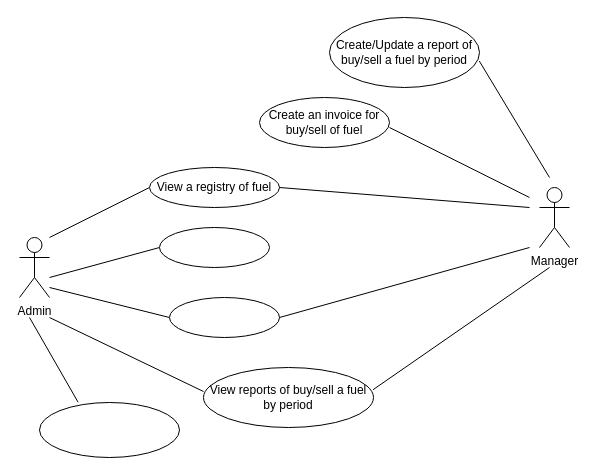
This 595x475 diagram has some shape labels left out. Here are the shapes that lost their labels. From the top down, the box of each, then its label:
(158, 226, 270, 268): CRUD a fuel
(168, 296, 280, 338): Log in
(38, 402, 180, 458): Delete reports of buy/sell a fuel by period
